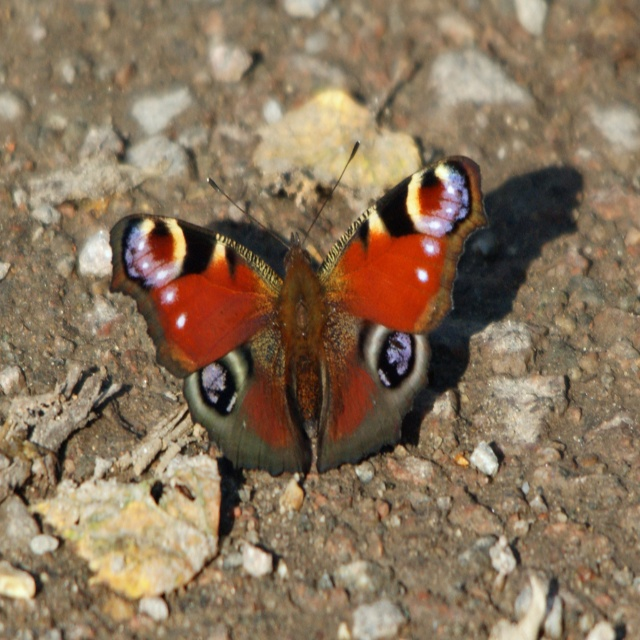Butterfly: (111, 120, 488, 485)
